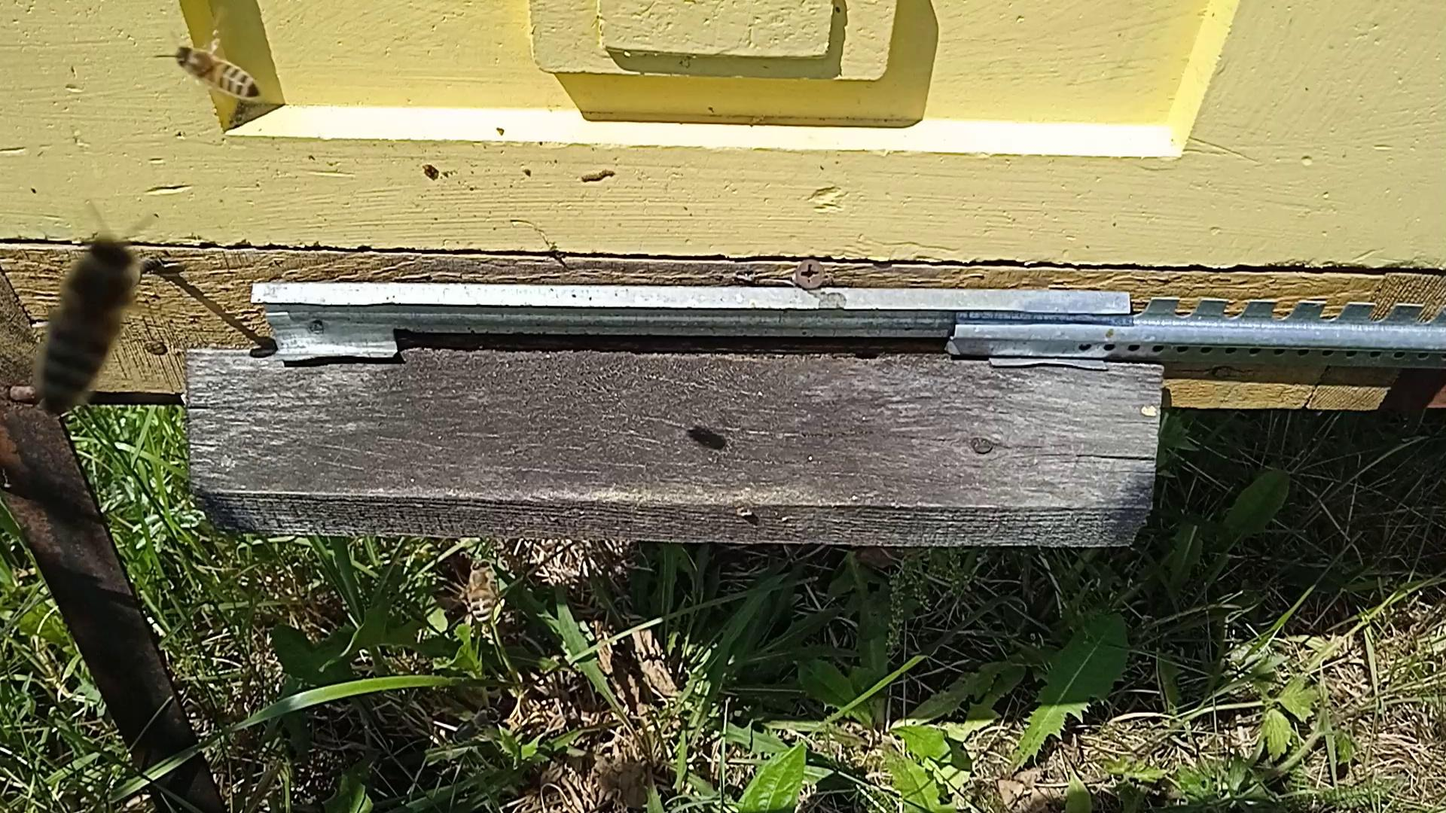worker-bee: (38, 238, 131, 417), (172, 44, 263, 100), (465, 559, 499, 624), (452, 706, 502, 742)
